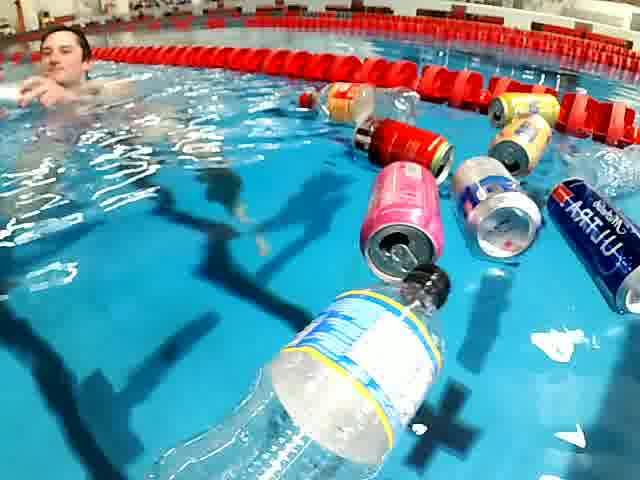Bottle: (136, 259, 456, 480), (293, 78, 425, 132), (569, 136, 640, 199)
Can: (540, 177, 639, 325), (356, 164, 450, 286), (444, 158, 544, 262), (344, 114, 459, 186), (484, 115, 556, 181), (480, 86, 568, 136)
